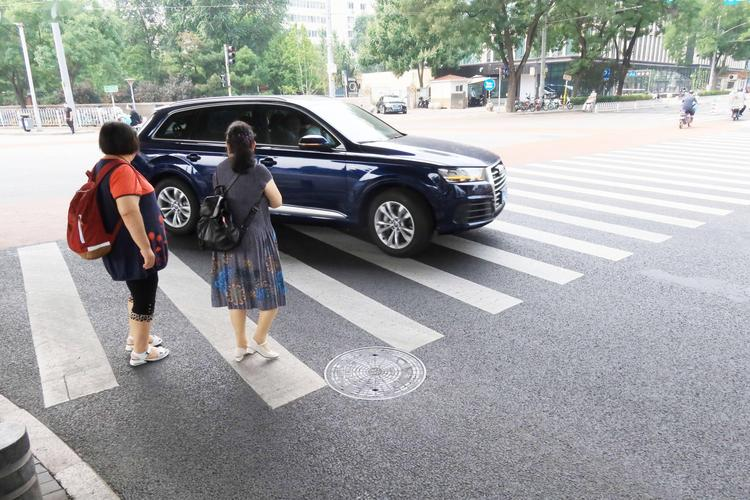bicycle: (678, 110, 695, 129)
car: (132, 96, 509, 257), (376, 96, 407, 115)
person: (74, 121, 174, 365), (201, 122, 288, 362), (269, 113, 316, 146), (679, 90, 699, 128), (735, 73, 750, 121), (729, 90, 747, 120), (125, 107, 143, 128), (63, 106, 75, 134), (583, 90, 598, 112)
sign: (482, 79, 496, 91), (602, 67, 611, 81)
traffic light: (222, 43, 236, 67)
